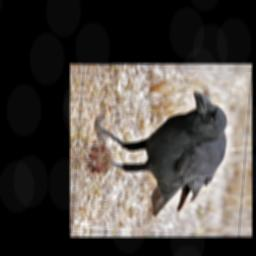Crow: (86, 87, 230, 219)
